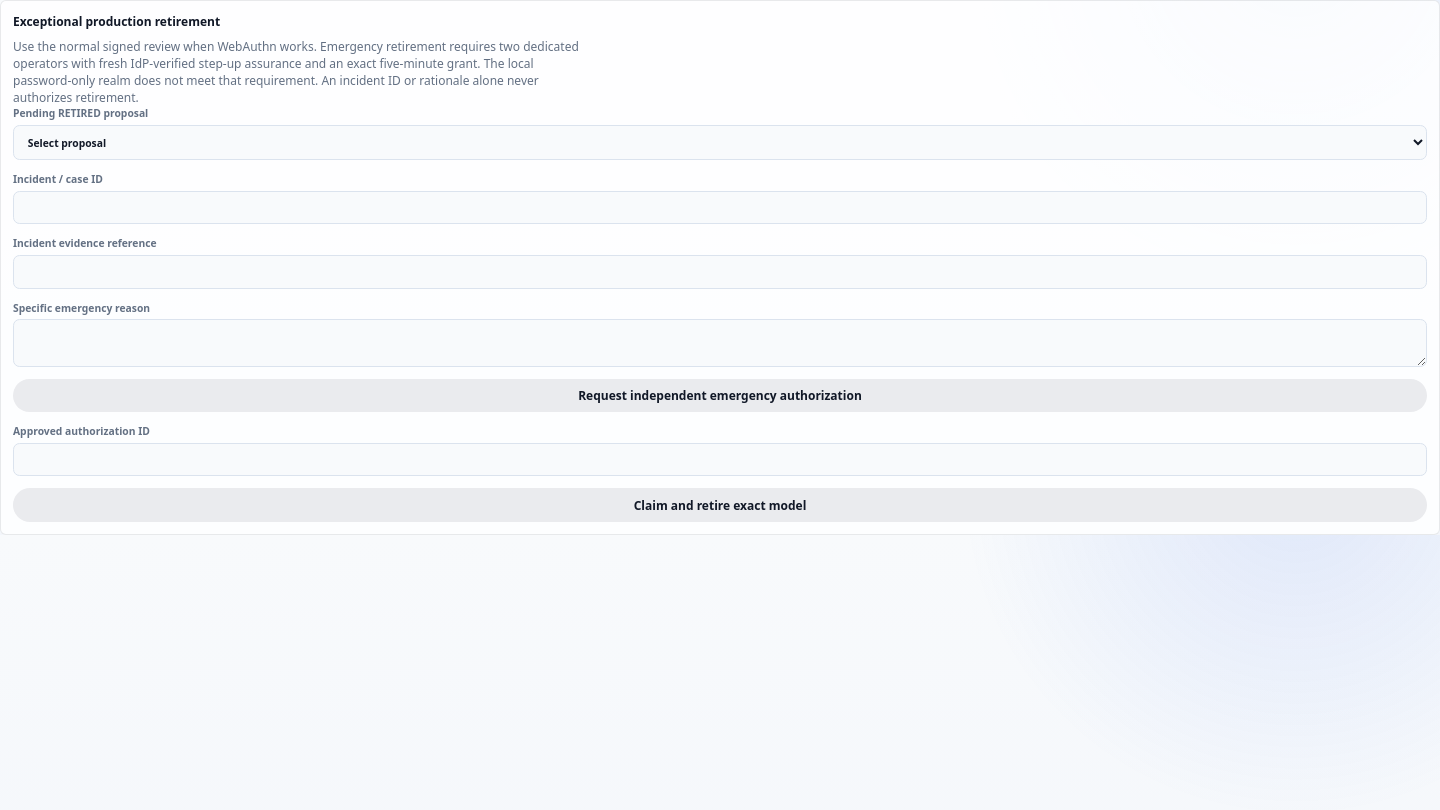
Test case: ModelPromotionEmergencyPanel › requests a dedicated exact-intent grant instead of treating rationale as authorization
Select "retirement-1" in the dropdown labelled "Pending RETIRED proposal" at [720, 143], box [13,125,1427,160]
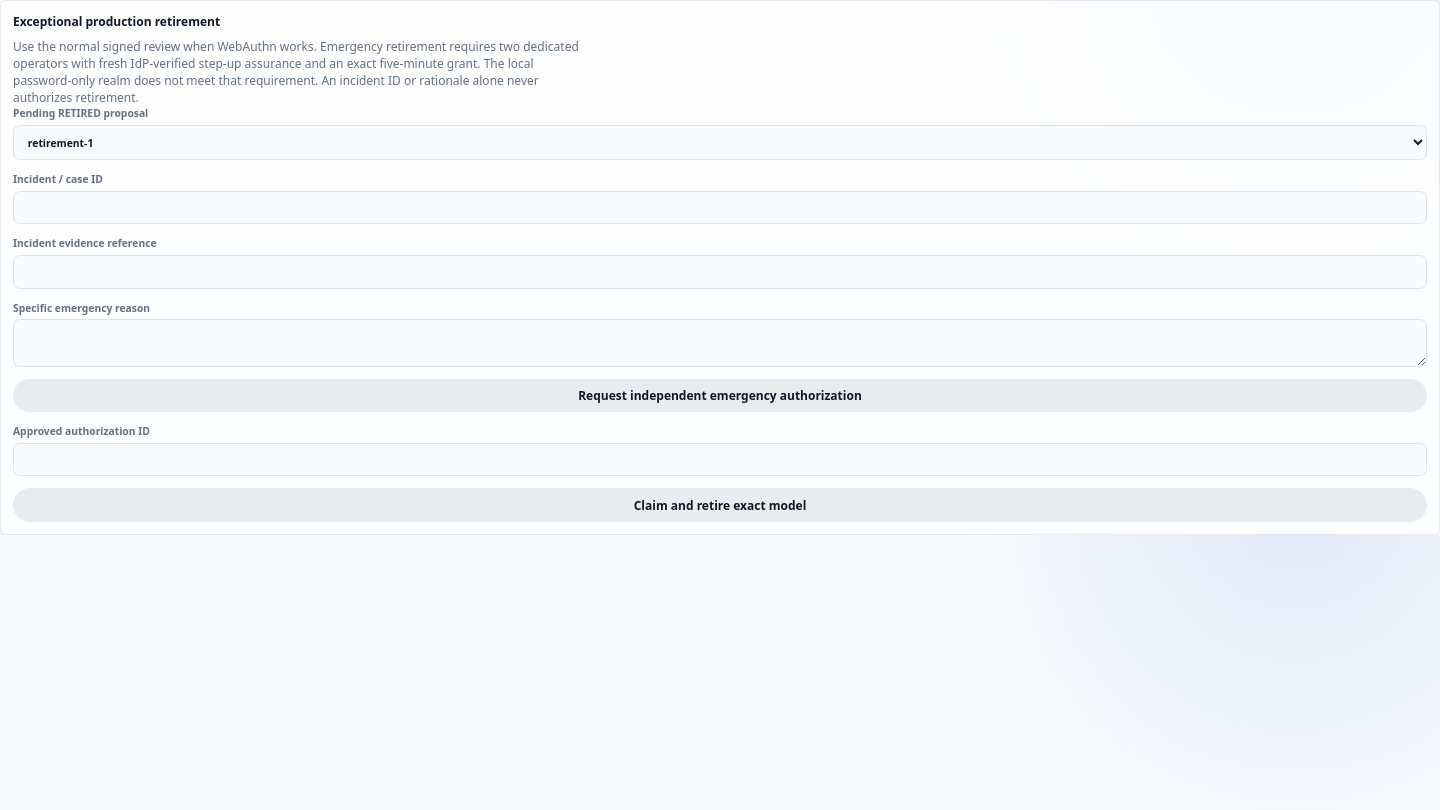
Type "case-12345" into the field labelled "Incident / case ID" at [720, 208], box [13,191,1427,224]
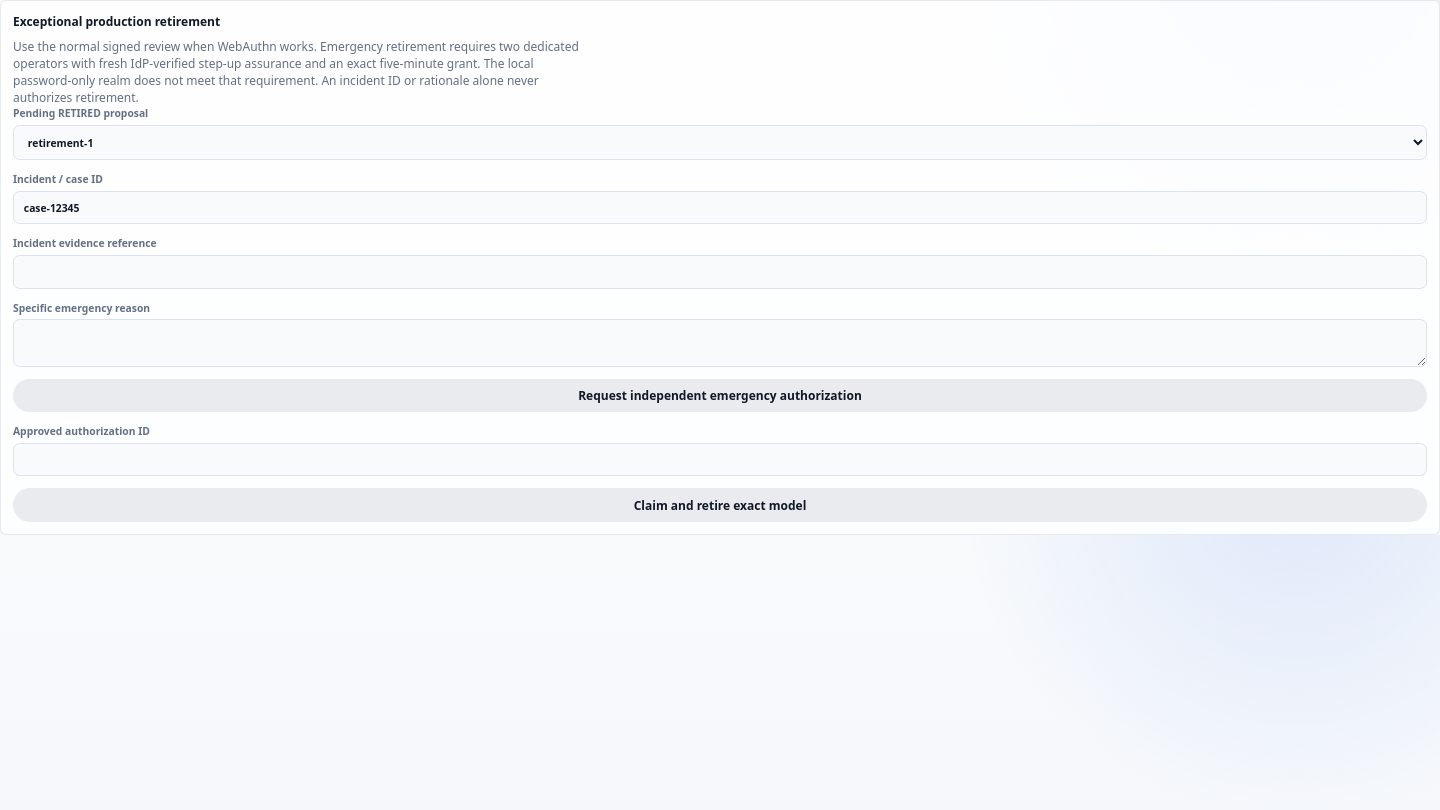
Type "incident-ledger:case-12345" into the field labelled "Incident evidence reference" at [720, 272], box [13,255,1427,289]
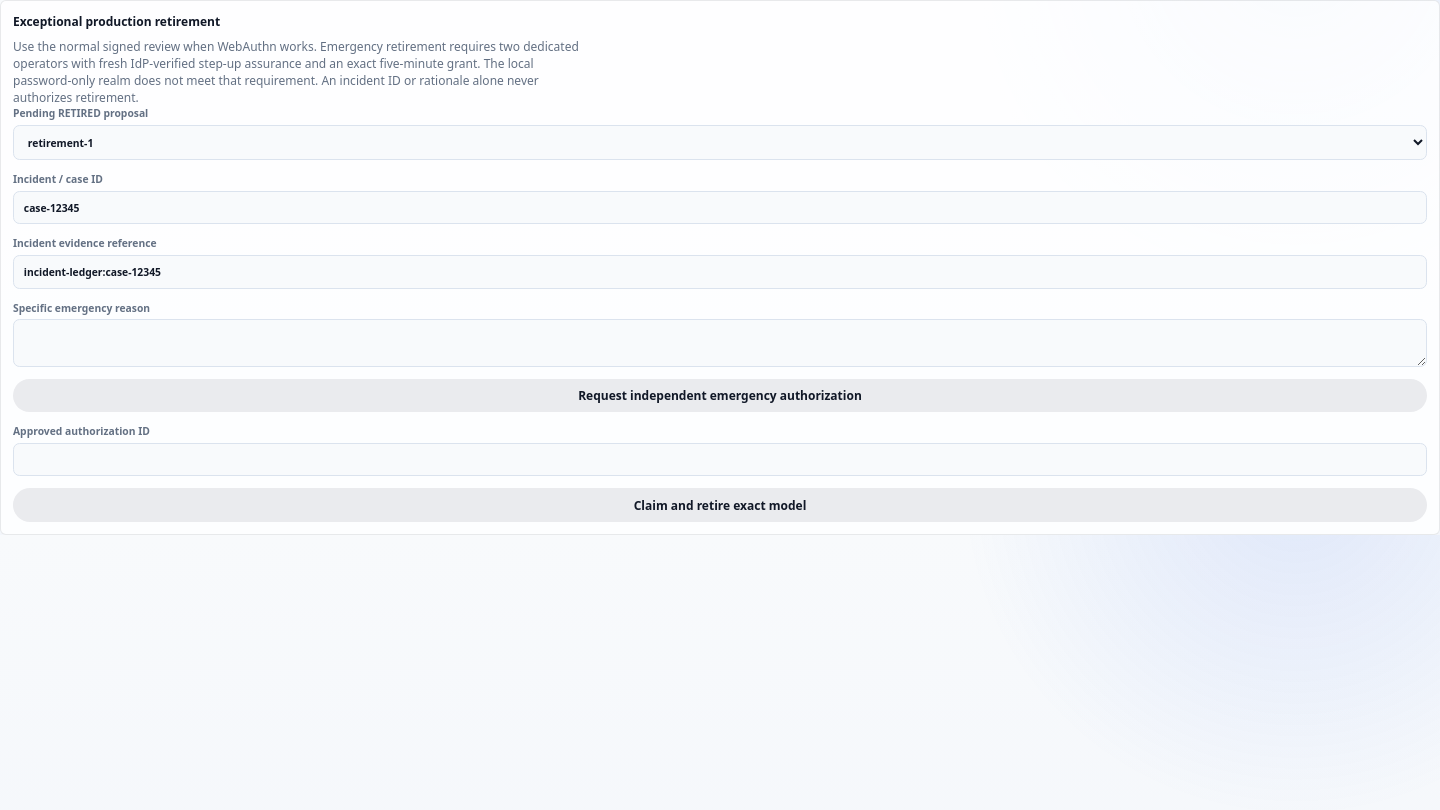
Type "An independently confirmed incident requires immediate retirement" into the text box labelled "Specific emergency reason" at [720, 343], box [13,319,1427,367]
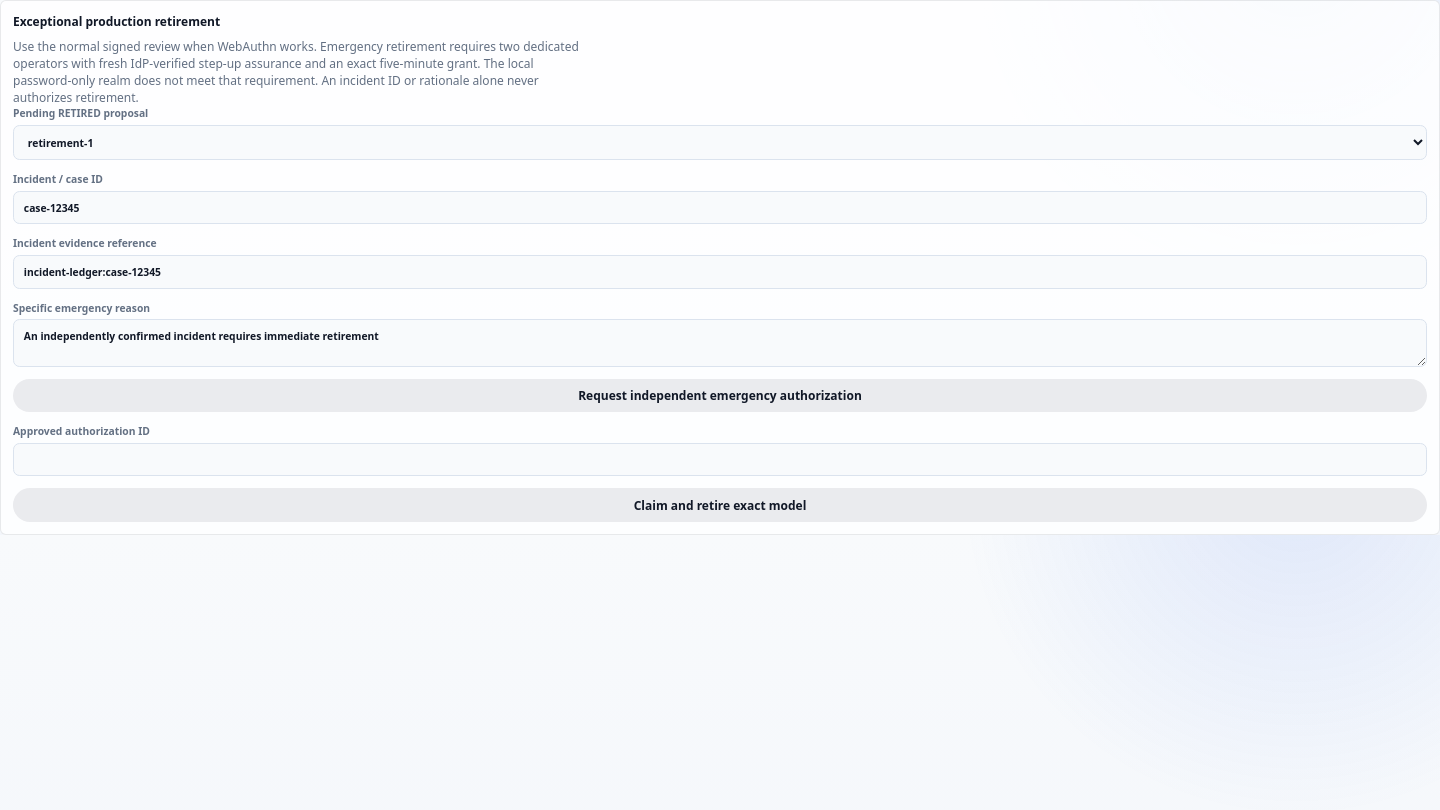
Click the button "Request independent emergency authorization" at [720, 396], box [13,379,1427,412]
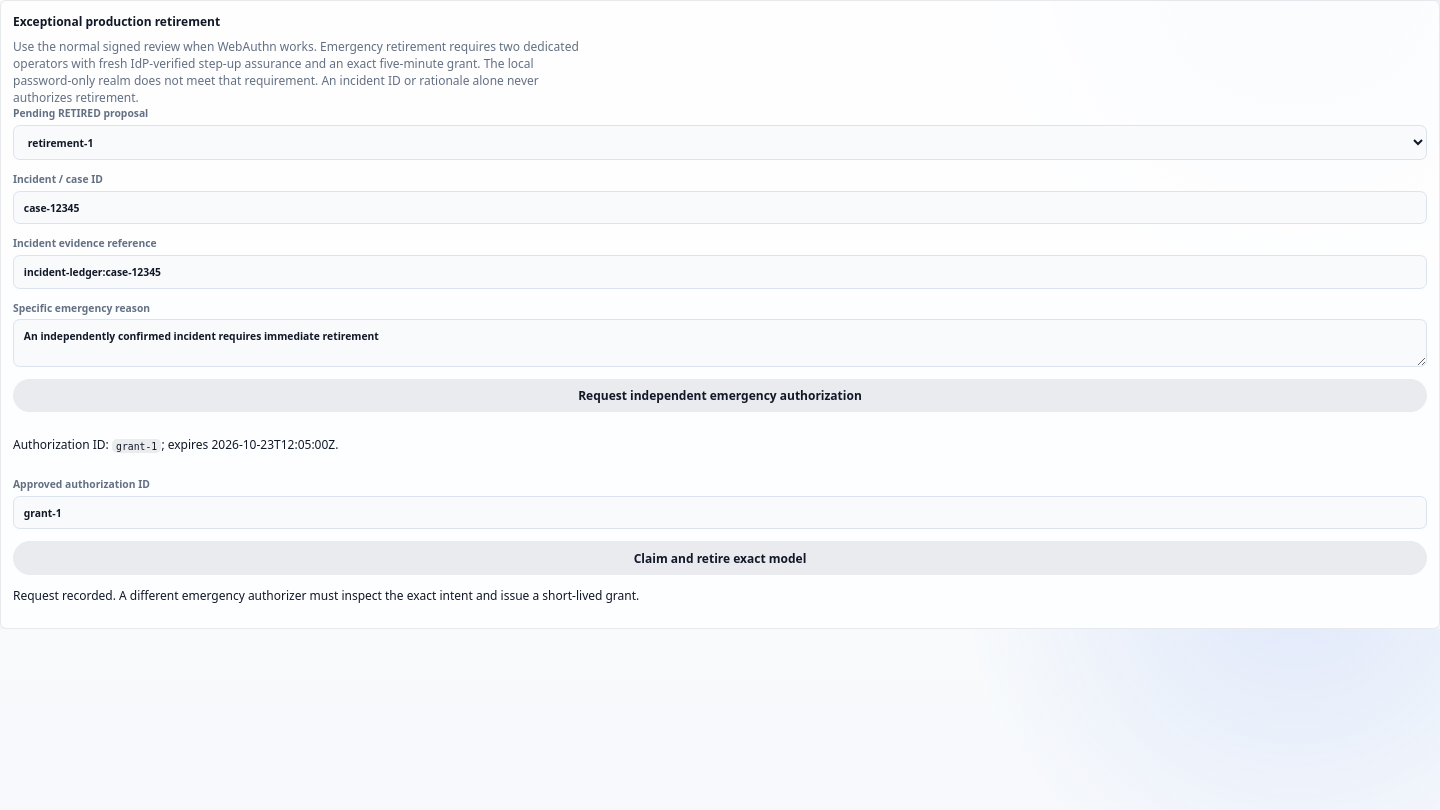
Expected: the text "Authorization ID: grant-1; expires 2026-10-23T12:05:00Z." is shown, [13,436,338,453]
